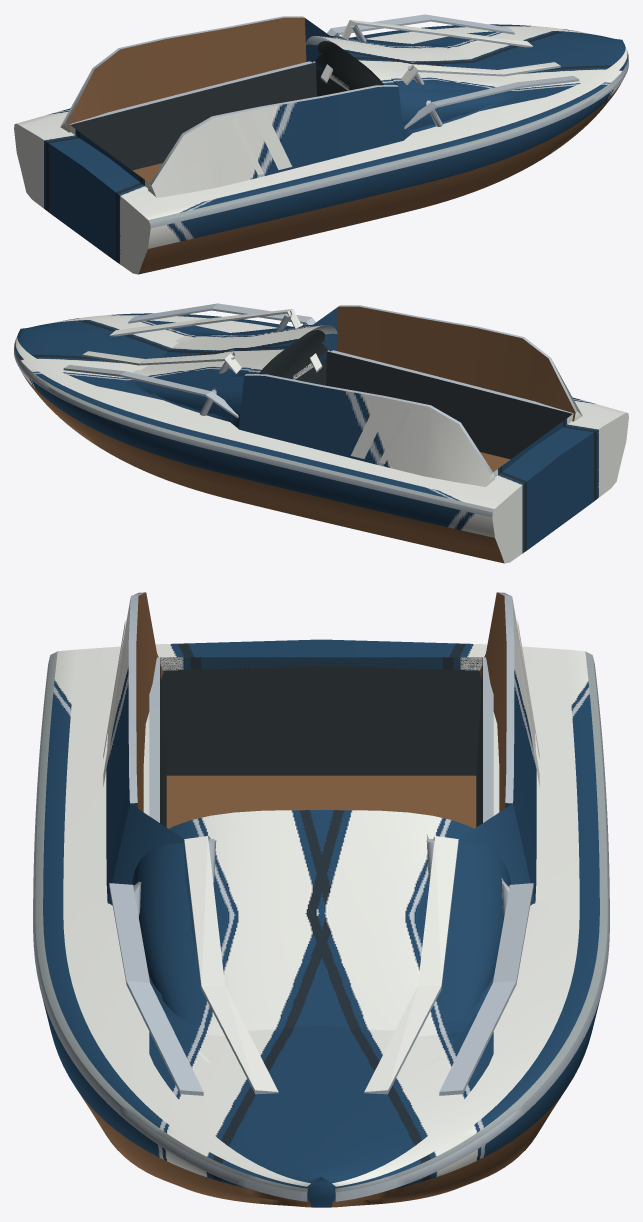
Rendered from Hull_27_SSR_青鋼・白稜.glb.
The picture shows the model from 3 angles, top to bottom: view 1: azimuth 30°, elevation 25°; view 2: azimuth 150°, elevation 25°; view 3: azimuth 270°, elevation 25°; orthographic projection. The views are drawn at different scales.
Visible parts, largest first — view 1: Hull_27_SSR; view 2: Hull_27_SSR; view 3: Hull_27_SSR.
Boxes of the visible parts, <box> form: Hull_27_SSR: <box>14,14,628,274</box>; Hull_27_SSR: <box>14,303,628,563</box>; Hull_27_SSR: <box>33,592,609,1207</box>.
Bounding box in the file's own units: 2.9 × 0.6856 × 1.34.
Materials: 4 (4 with a texture image).
